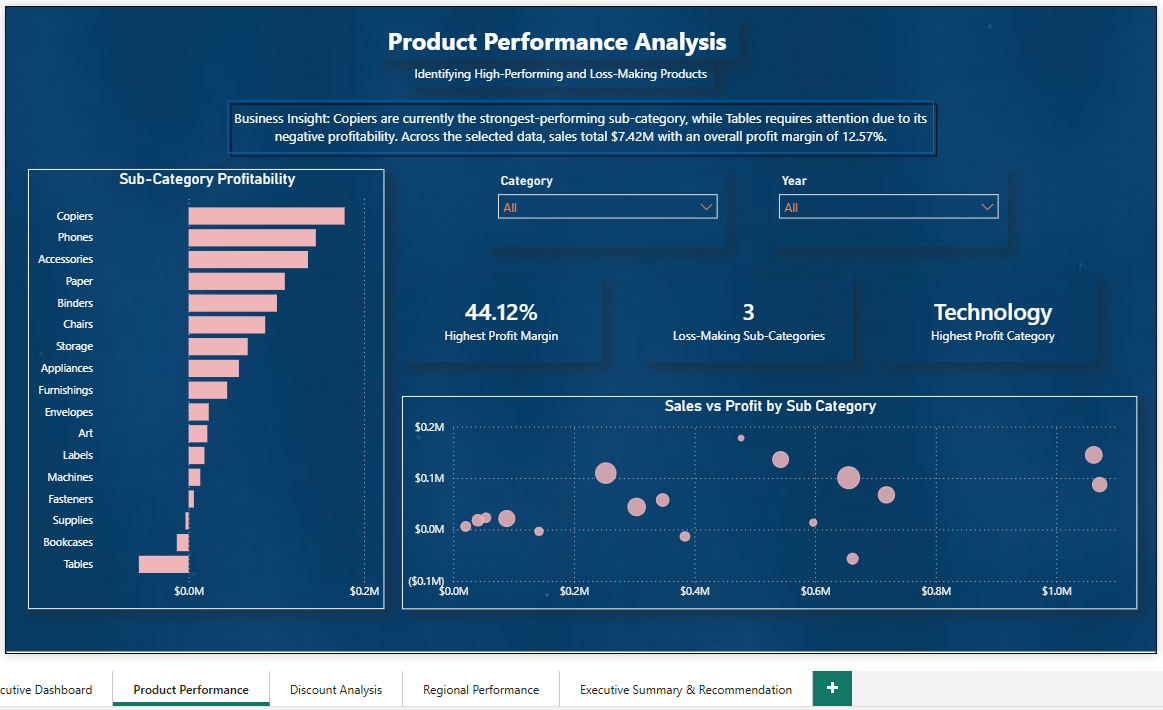

What the dashboard file says about the page in this screenshot:
{"tool":"powerbi","page":{"name":"Product Performance","canvas":[1280,720],"ordinal":1},"visuals":[{"type":"textbox","box":[420.2,14.8,395.9,46.5],"z":0},{"type":"textbox","box":[449.7,61.2,337.8,28.5],"z":1000},{"type":"clusteredBarChart","title":"Sub-Category Profitability","fields":{"Category":["Orders.Sub-Category"],"Y":["Orders.Total Profit"]},"box":[25.1,181.1,396.5,488.7],"z":2000},{"type":"scatterChart","title":"Sales vs Profit by Sub Category","fields":{"X":["Orders.Total Sales"],"Y":["Orders.Total Profit"],"Size":["Orders.Total Quantity"],"Category":["Orders.Sub-Category"]},"box":[441.4,433.5,817.1,236.5],"z":3000},{"type":"shape","box":[242.5,99.7,794.9,68.7],"z":4000},{"type":"slicer","fields":{"Values":["Orders.Category"]},"box":[537.7,181.1,264.3,86.6],"z":5000},{"type":"slicer","fields":{"Values":["Orders.Year"]},"box":[849.9,181.1,264.3,86.6],"z":6000},{"type":"cardVisual","fields":{"Data":["Orders.Loss-Making Sub-Categories"]},"box":[711.6,301.9,231.2,92.9],"z":7000},{"type":"cardVisual","fields":{"Data":["Orders.Highest Profit Margin"]},"box":[441.3,301.9,221.7,92.9],"z":8000},{"type":"cardVisual","fields":{"Data":["Orders.Highest Profit Category"]},"box":[981.8,301.9,231.2,92.9],"z":9000}]}

Visuals, with their boxes on the page's 1280x720 design canvas (x1, y1, x2, y2). These are canvas units, not pixel positions in the 1163x710 screenshot, which may show the page scaled, cropped or inside an application window:
textbox: <box>420,15,816,61</box>
textbox: <box>450,61,788,90</box>
"Sub-Category Profitability" clusteredBarChart: <box>25,181,422,670</box>
"Sales vs Profit by Sub Category" scatterChart: <box>441,434,1258,670</box>
shape: <box>242,100,1037,168</box>
slicer - Orders.Category: <box>538,181,802,268</box>
slicer - Orders.Year: <box>850,181,1114,268</box>
cardVisual - Orders.Loss-Making Sub-Categories: <box>712,302,943,395</box>
cardVisual - Orders.Highest Profit Margin: <box>441,302,663,395</box>
cardVisual - Orders.Highest Profit Category: <box>982,302,1213,395</box>
